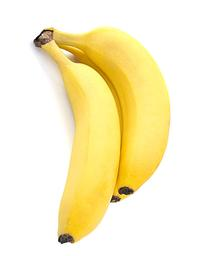banana: (33, 22, 174, 250)
